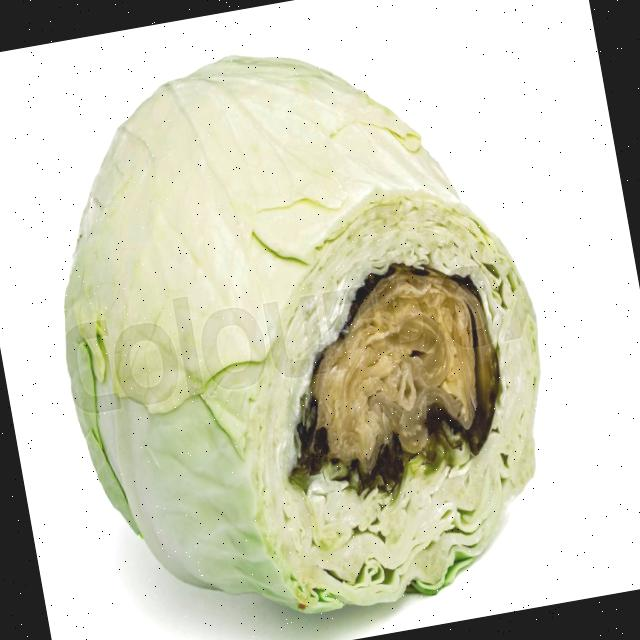rotten cabbage: (13, 6, 587, 640)
